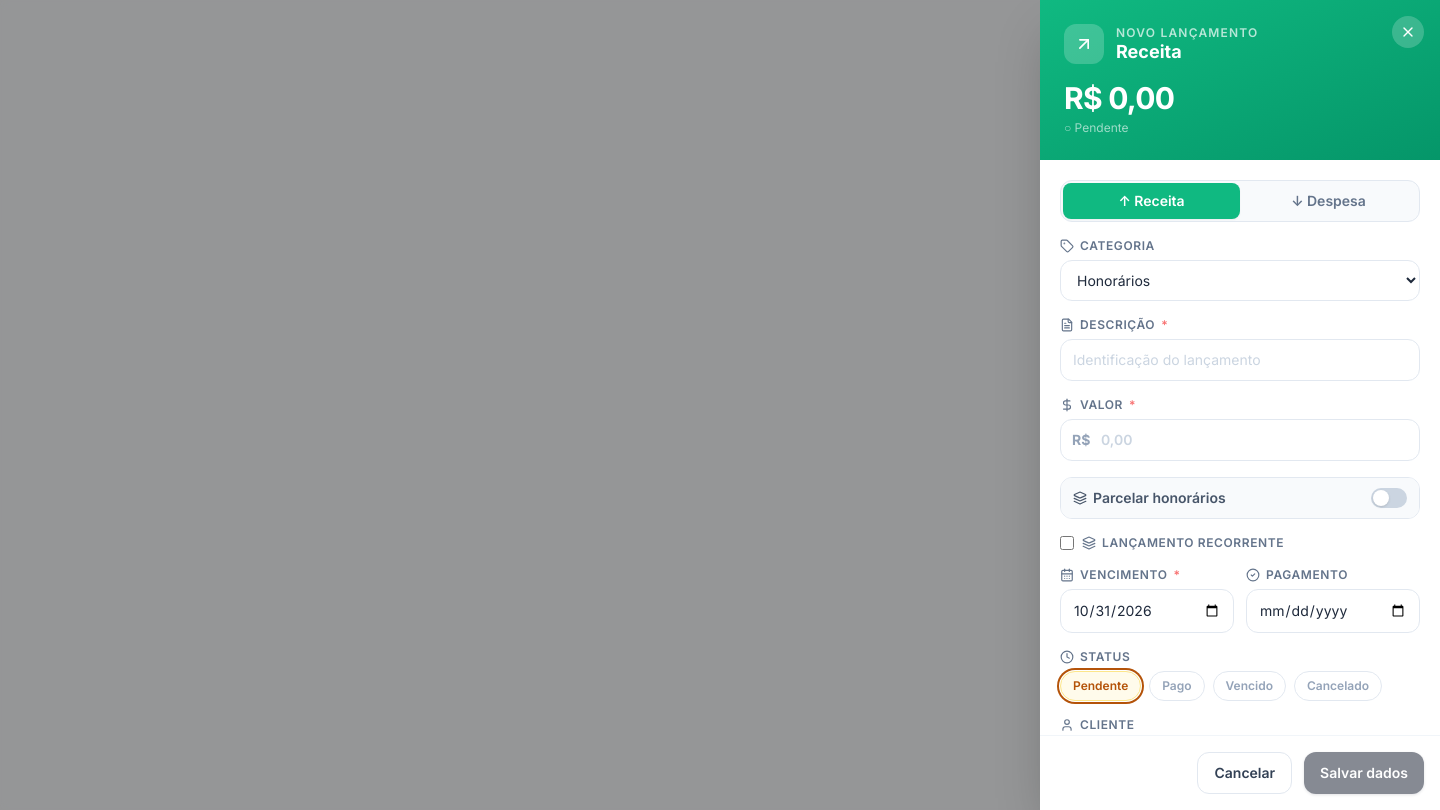
Test: FinancialDrawer — recorrência x parcelamento › ao ativar parcelamento numa receita, recorrência continua visível mas fica desabilitada
The width and height of the screenshot is (1440, 810).
What coordinates should you click on to do the following:
click the button with test id "toggle-installment-plan"
I would click on:
 (1159, 498)
Its box is x1=1061 y1=478 x2=1419 y2=518.
(page scrolled)
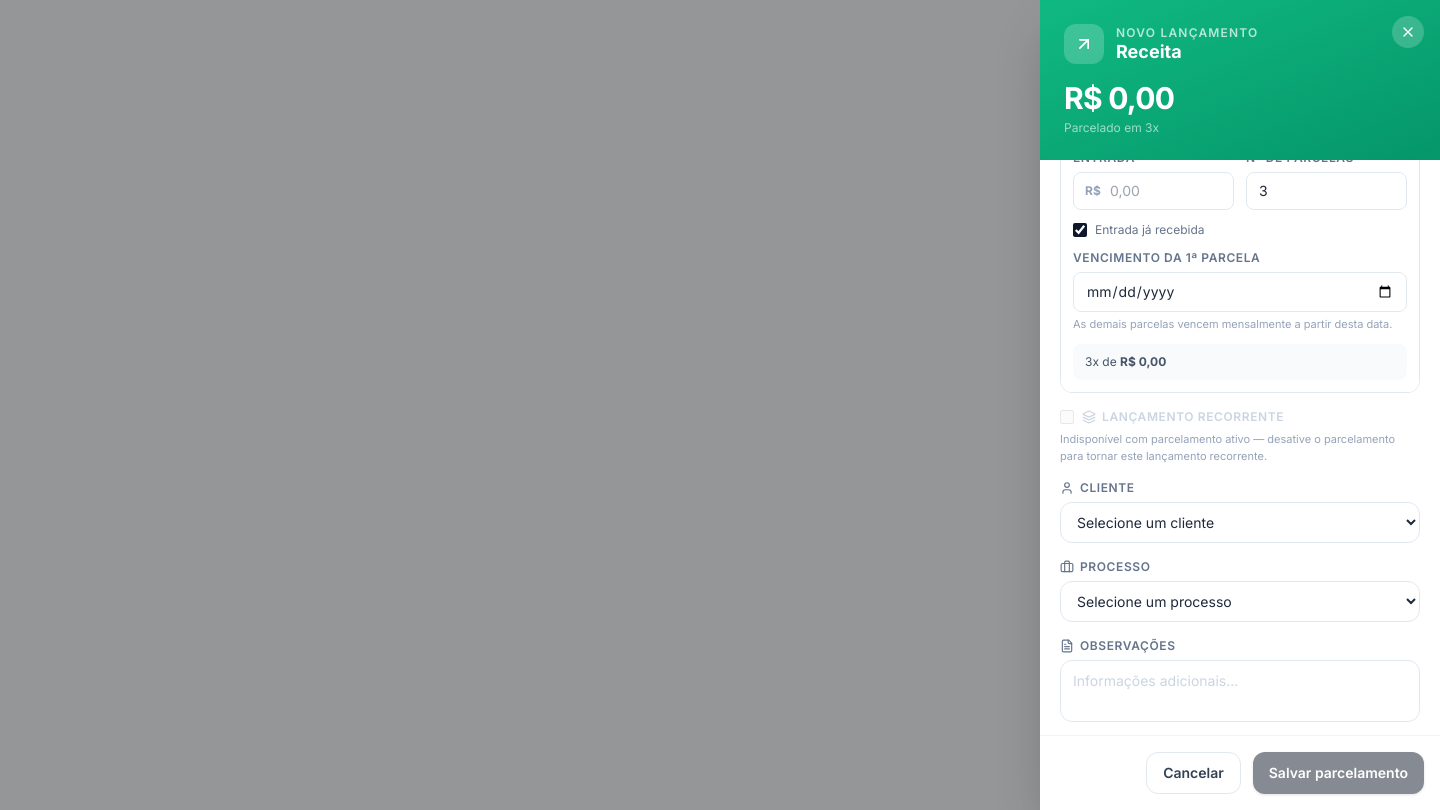
Check: the text with test id "recurring-disabled-note" is shown, box x1=1060 y1=431 x2=1420 y2=464
